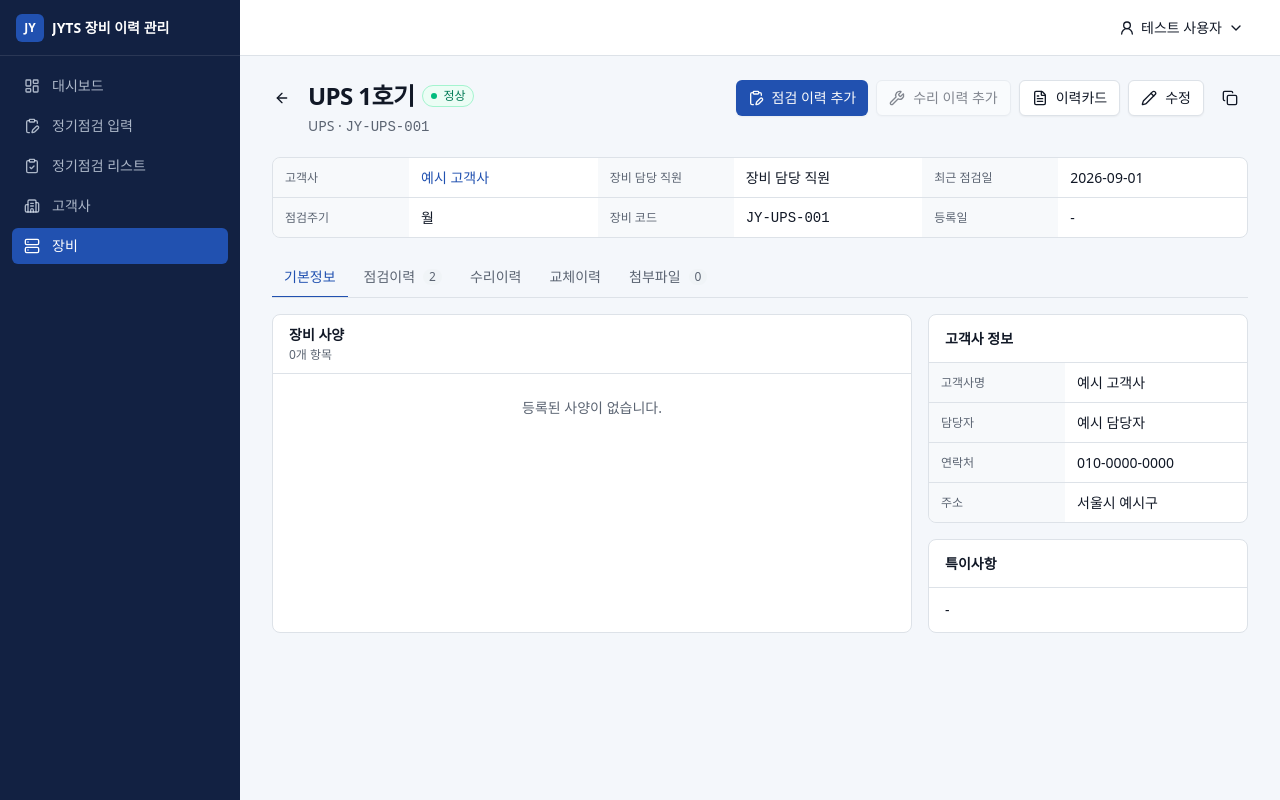
Test case: equipment pages › shows equipment detail with tabs and a newest-first inspection timeline
Expected: the heading "UPS 1호기" is shown, [308, 80, 414, 112]
Expected: the text "정상" is shown, [422, 85, 474, 107]
What coordinates should you click on to do the following:
click the tab "점검이력 2"
I would click on:
 (403, 278)
Its box is [352, 258, 454, 298].
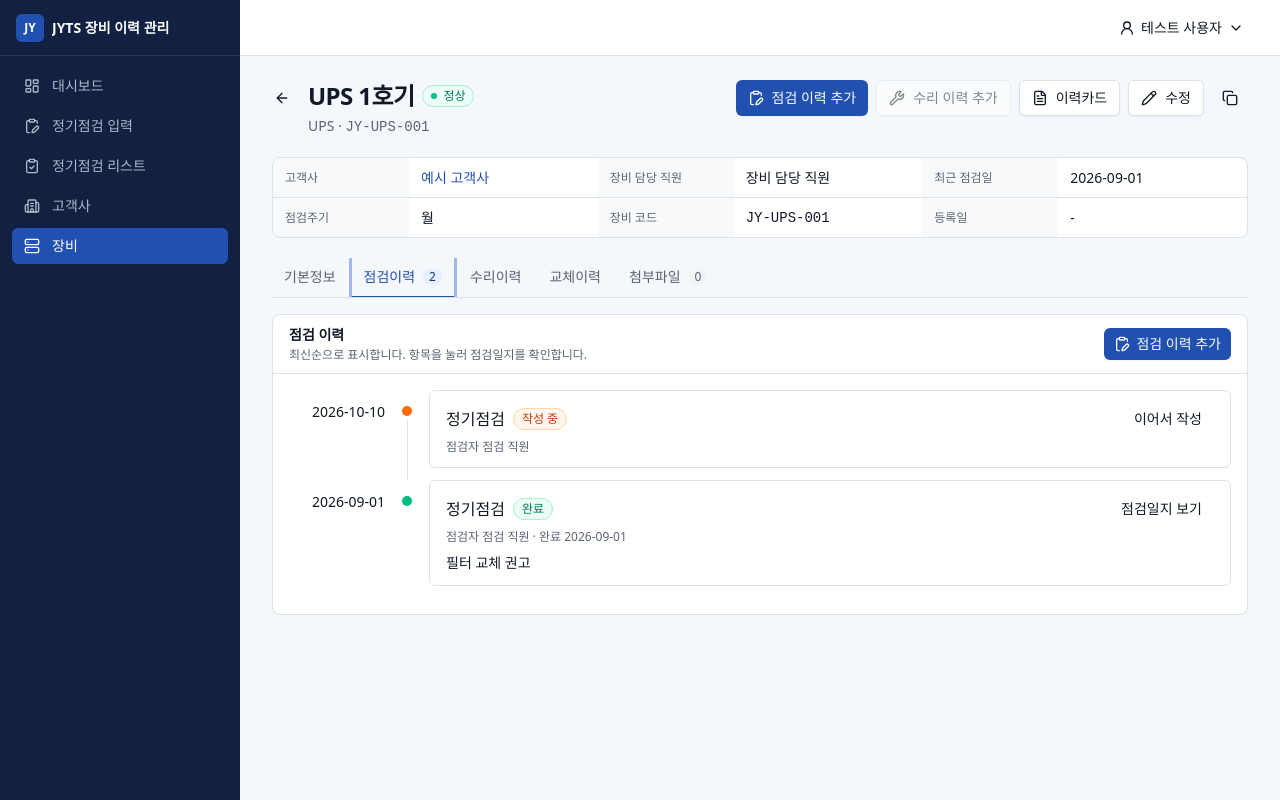
Expected: the text "필터 교체 권고" is shown, [446, 553, 531, 572]
What coordinates should you click on to do the following:
click the tab "첨부파일 0"
I would click on:
 (668, 278)
Its box is [617, 258, 719, 298].
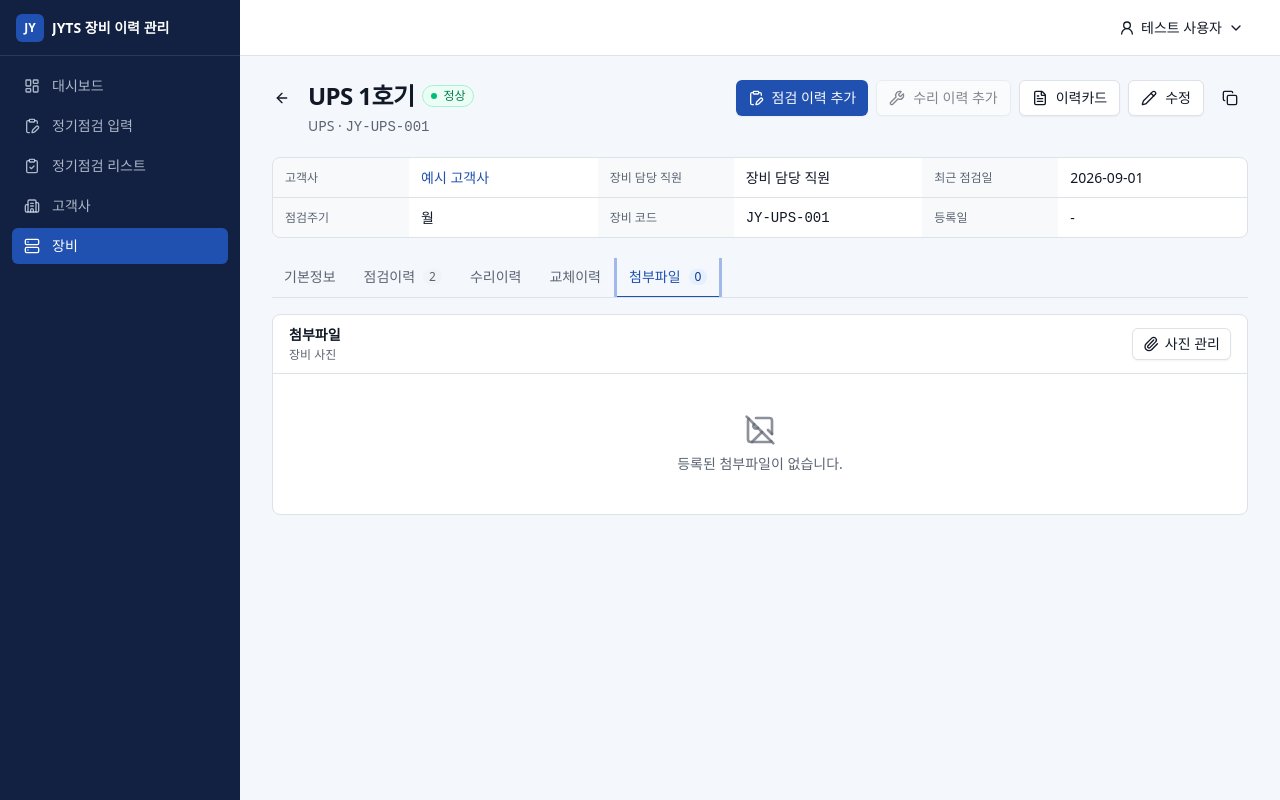
Expected: the text "등록된 첨부파일이 없습니다." is shown, [677, 454, 843, 474]
